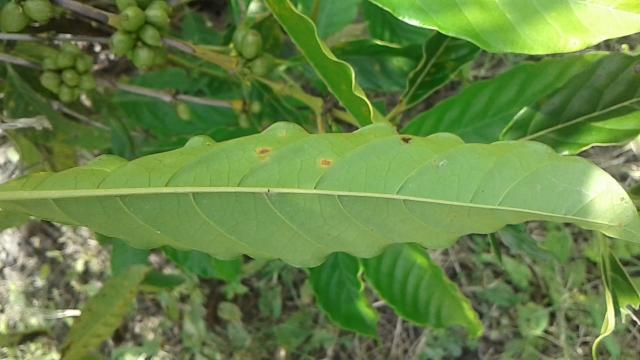rust_level_1: (0, 122, 640, 268)
